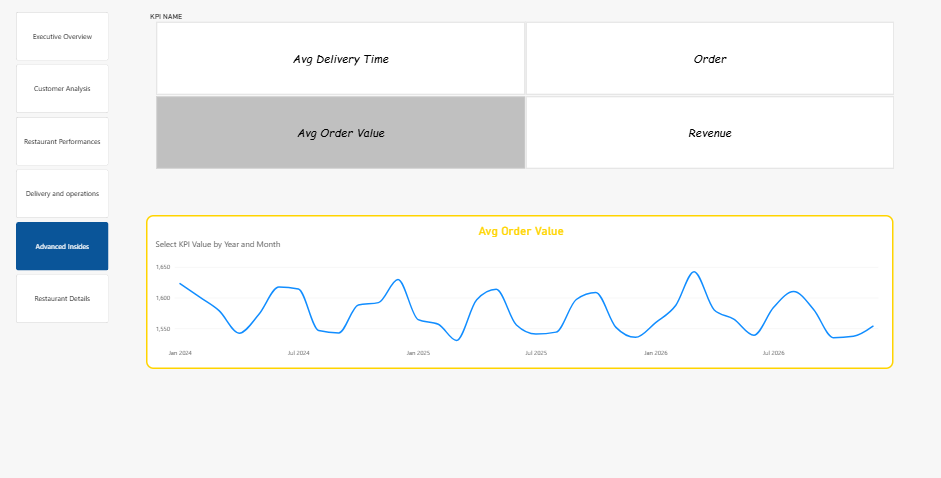

This screenshot's page, from the dashboard's own definition file:
{"tool":"powerbi","page":{"name":"Advanced Insides","canvas":[1920,1080],"ordinal":4},"visuals":[{"type":"slicer","fields":{"Values":["KPI.KPI NAME"]},"box":[297.5,42.5,1515,315],"z":0},{"type":"lineChart","fields":{"Category":["DateTable.Date.Variation.Date Hierarchy.Year","DateTable.Date.Variation.Date Hierarchy.Month"],"Y":["Orders.Select KPI Value"]},"box":[297.5,447.5,1495,307.5],"z":1000},{"type":"pageNavigator","box":[37.5,42.5,185,627.5],"z":1001}]}

Visuals, with their boxes on the page's 1920x1080 design canvas (x1, y1, x2, y2). These are canvas units, not pixel positions in the 941x478 screenshot, which may show the page scaled, cropped or inside an application window:
slicer - KPI.KPI NAME: (left=298, top=42, right=1812, bottom=358)
lineChart - DateTable.Date.Variation.Date Hierarchy.Year x DateTable.Date.Variation.Date Hierarchy.Month: (left=298, top=448, right=1792, bottom=755)
pageNavigator: (left=38, top=42, right=222, bottom=670)
